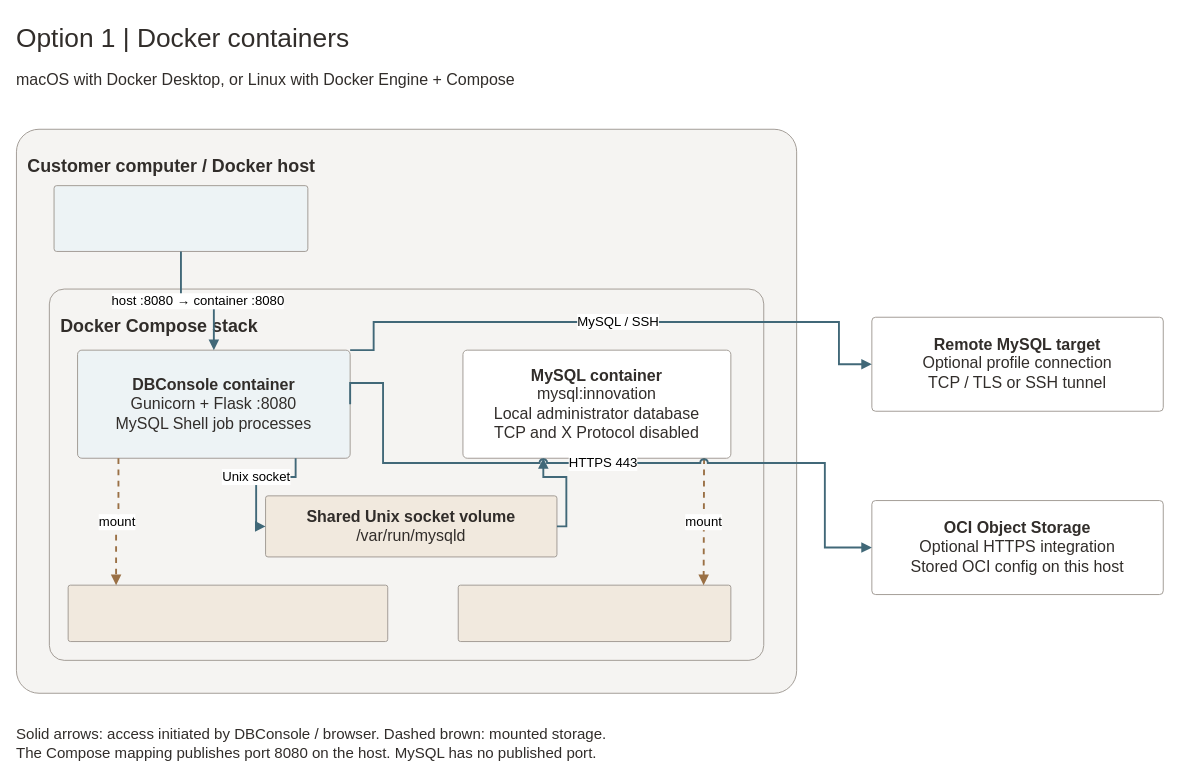
This 1199x784 diagram has some shape labels left out. Each missing label, with the centre of its shape:
Browser http://127.0.0.1:8080: point 180,218
dbconsole-mysql Persistent MySQL data: point 594,613
dbconsole-state Profiles, settings, jobs, OCI config: point 227,613
